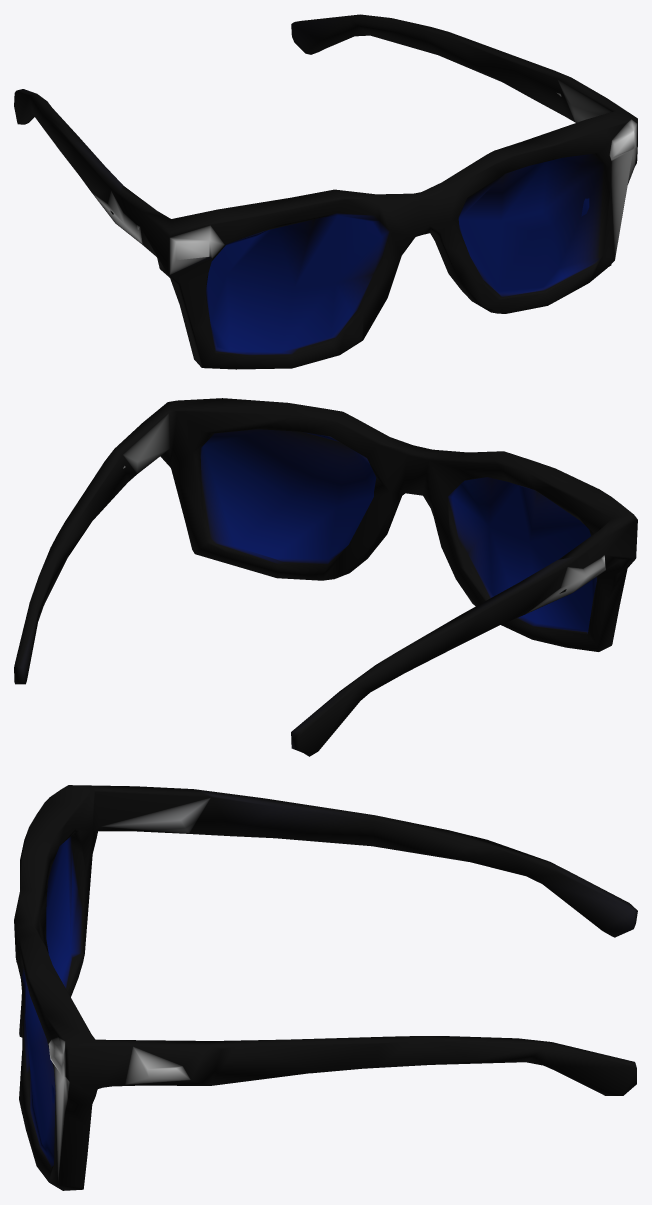
The model's file is gen3d-sunglass-lod1.glb.
3 views of the same model, one above another, from view 1: azimuth 30°, elevation 25°; view 2: azimuth 150°, elevation 25°; view 3: azimuth 270°, elevation 25° (orthographic). The views are drawn at different scales.
Visible parts, largest first — view 1: part_0; view 2: part_0; view 3: part_0.
Part boxes in pixels (x1,y1,x2,y2): part_0: (14,14,637,369); part_0: (14,398,637,756); part_0: (14,785,637,1190).
Size of the model in its own units: 2.96 by 0.9994 by 2.95.
